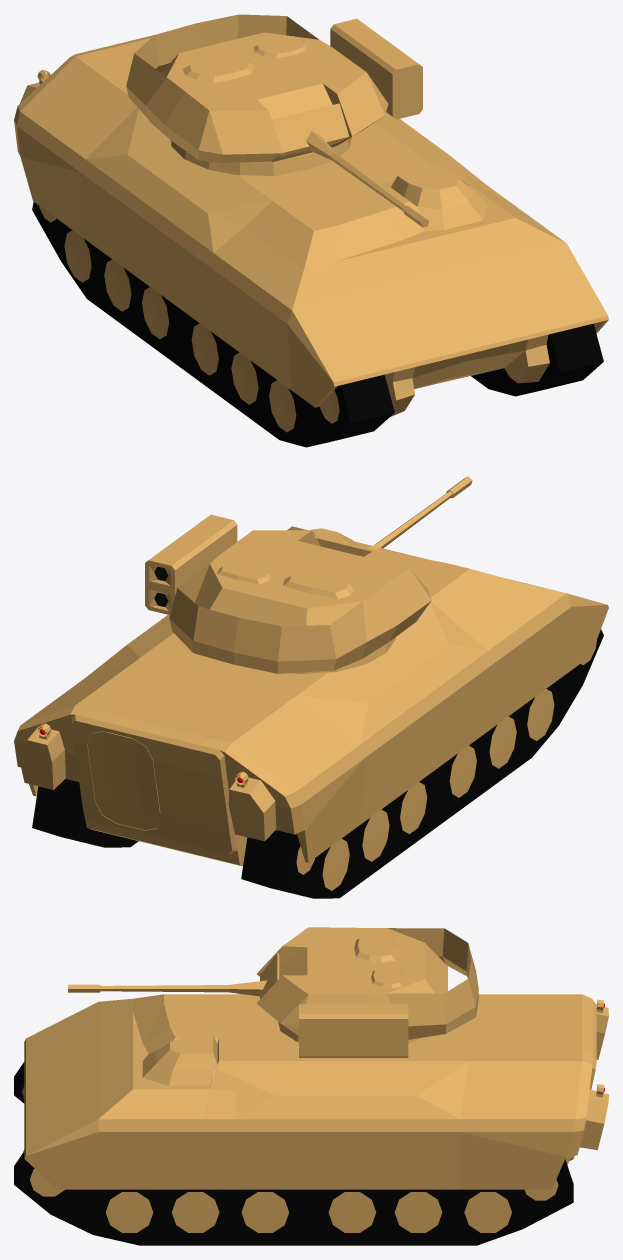
The picture shows the model from 3 angles, top to bottom: view 1: azimuth 30°, elevation 25°; view 2: azimuth 150°, elevation 25°; view 3: azimuth 270°, elevation 25°; orthographic projection. The views are drawn at different scales.
Parts seen in each view (by area): view 1: Plane.006, Plane.008, Cylinder.001, Plane.009, Plane.010; view 2: Plane.006, Plane.008, Cylinder.001, Plane.007, Plane.009, Plane.010, Plane.011; view 3: Plane.006, Cylinder.001, Plane.008, Plane.009, Plane.010, Plane.011.
Part boxes in pixels (x1,y1,x2,y2): Plane.006: [14, 35, 608, 416]; Plane.008: [126, 14, 422, 163]; Cylinder.001: [32, 202, 603, 447]; Plane.009: [272, 103, 429, 227]; Plane.010: [190, 54, 248, 76]; Plane.006: [14, 526, 608, 866]; Plane.008: [145, 514, 431, 673]; Cylinder.001: [32, 629, 603, 898]; Plane.007: [87, 732, 160, 829]; Plane.009: [314, 476, 472, 556]; Plane.010: [289, 570, 348, 592]; Plane.011: [221, 561, 267, 579]; Plane.006: [22, 994, 608, 1189]; Cylinder.001: [14, 1062, 573, 1245]; Plane.008: [256, 927, 478, 1057]; Plane.009: [68, 953, 279, 998]; Plane.010: [358, 933, 392, 956]; Plane.011: [373, 966, 401, 984].
Bounding box in the file's own units: 310 × 268 × 642.
